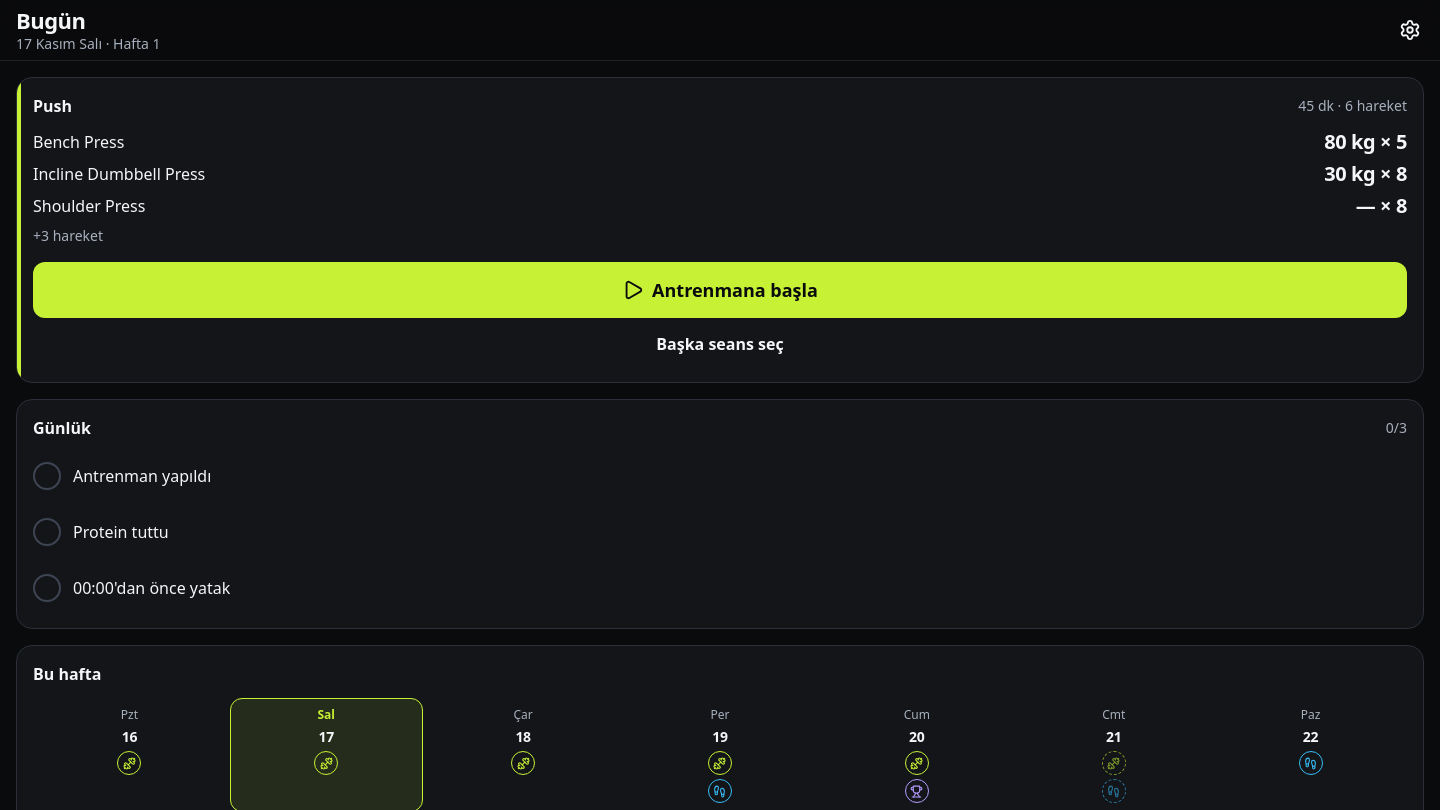
Test case: TodayScreen — daily ticks › ticking protein writes the checklist of today
Click the checkbox labelled "Protein tuttu": (121, 532) [21,504,1419,560]
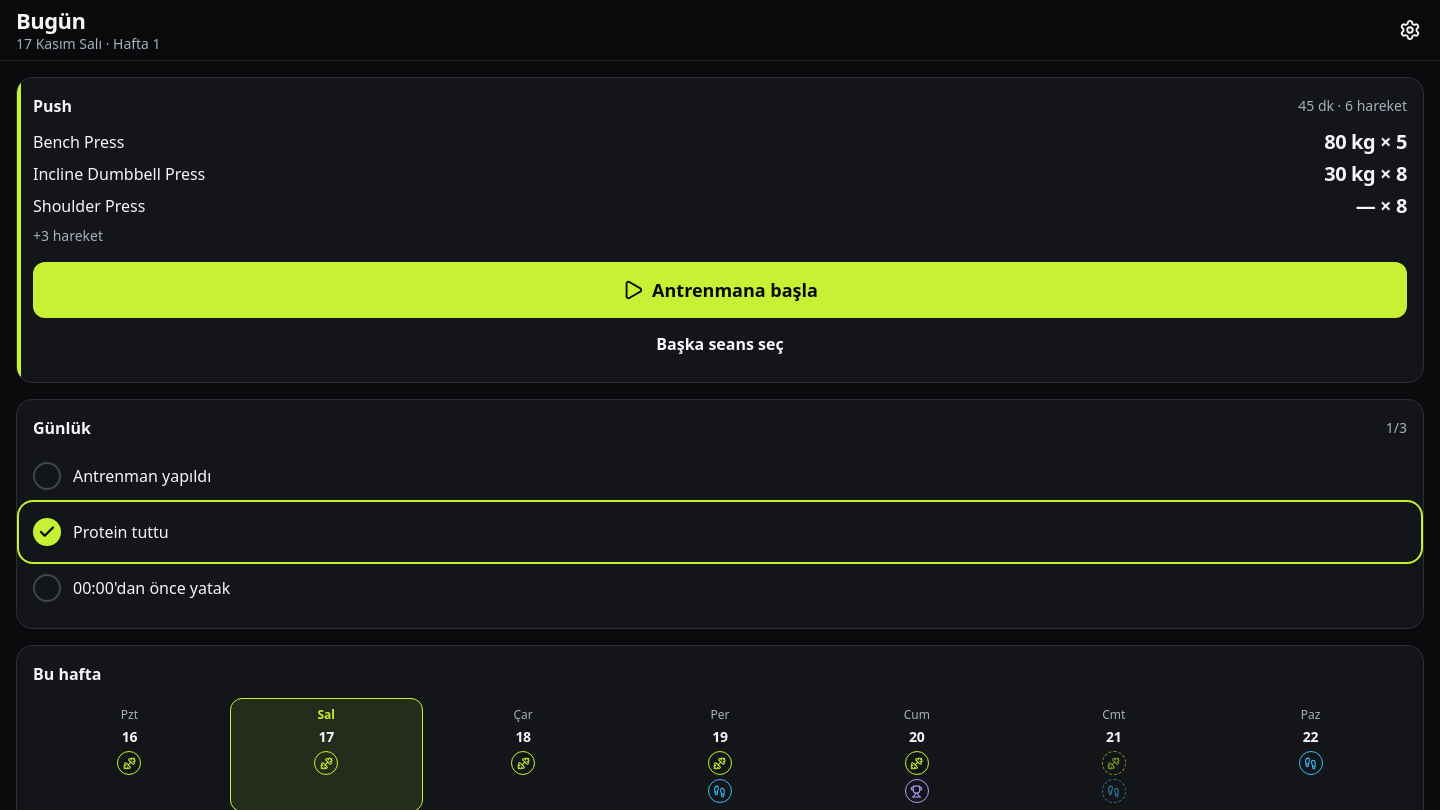
Result: the checkbox labelled "Protein tuttu" is checked at [21,504,1419,560]
